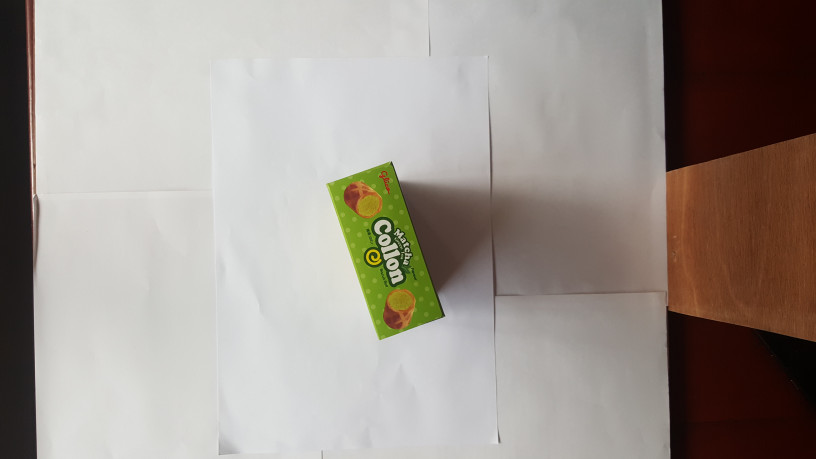collon-matcha: (329, 162, 447, 341)
